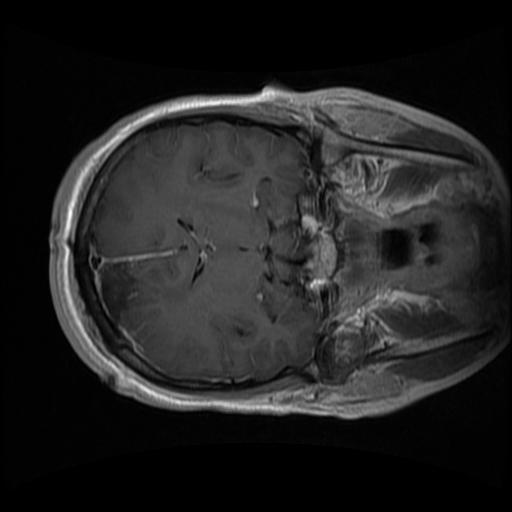glioma: (95, 258, 141, 327)
